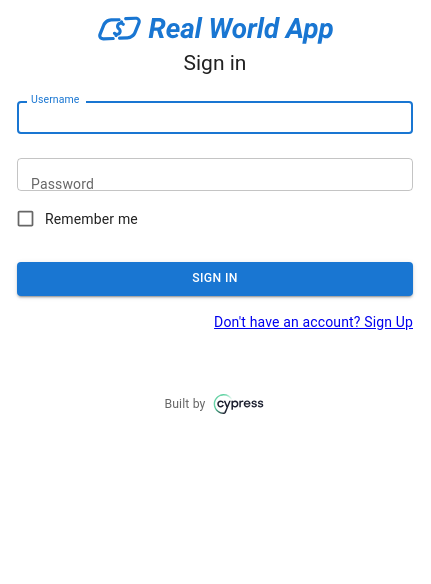
Test: template spec › Register Account Fail (Password Wrong)
Click the link to "/signup" at {"x": 314, "y": 322}, box [214,314,413,330]
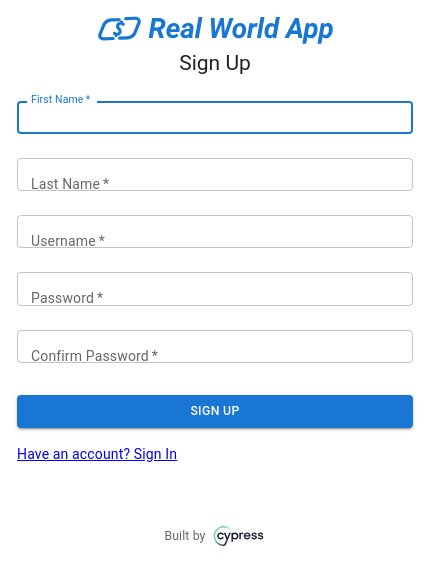
Type "Jonas" into the field named "firstName" at {"x": 215, "y": 118}, box [17,101,413,134]
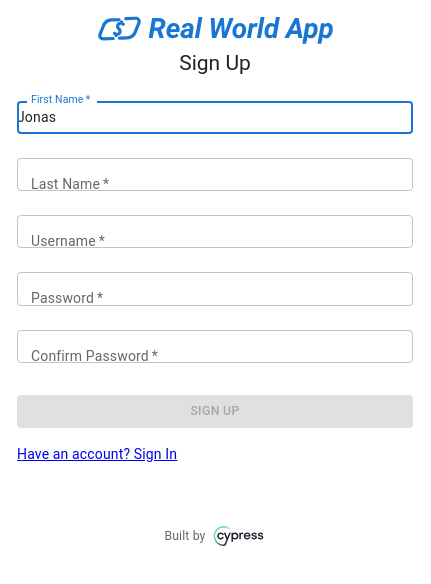
Type "Vieira" into the field named "lastName" at {"x": 215, "y": 175}, box [17,158,413,191]
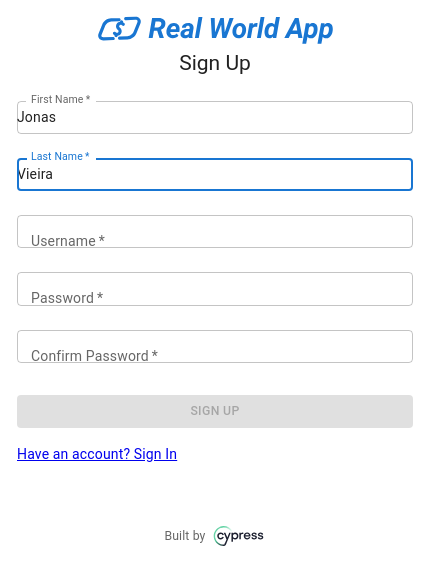
Type "jonasbank" into the field named "username" at {"x": 215, "y": 232}, box [17,215,413,248]
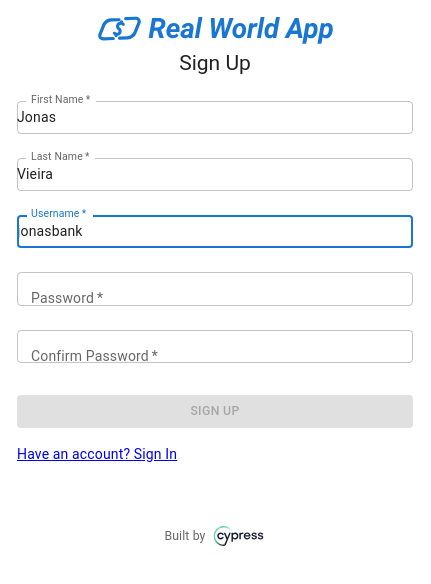
Type "test123" into the password field named "password" at {"x": 215, "y": 289}, box [17,272,413,305]
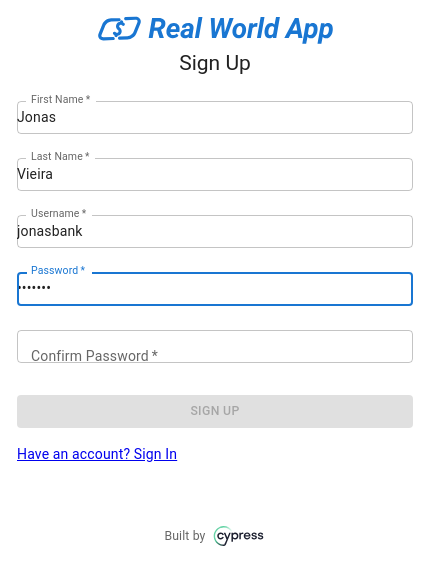
Type "test124" into the password field named "confirmPassword" at {"x": 215, "y": 347}, box [17,330,413,363]
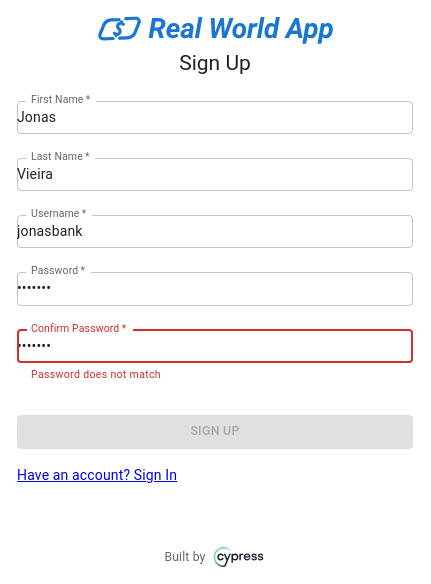
Result: the text "Password does not match" is shown at [31,368,161,381]
